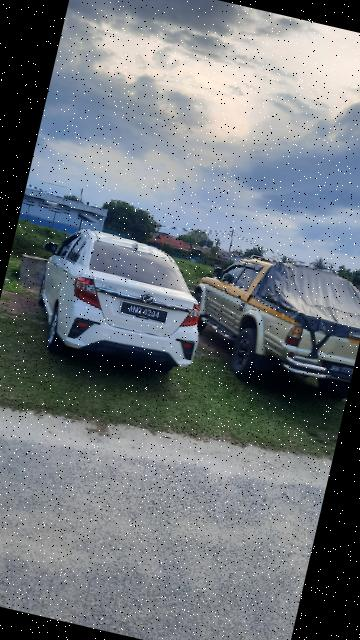License_Plate: (118, 299, 171, 326)
car: (17, 218, 223, 387)
